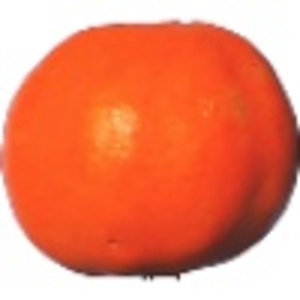tangerina: (2, 18, 300, 280)
